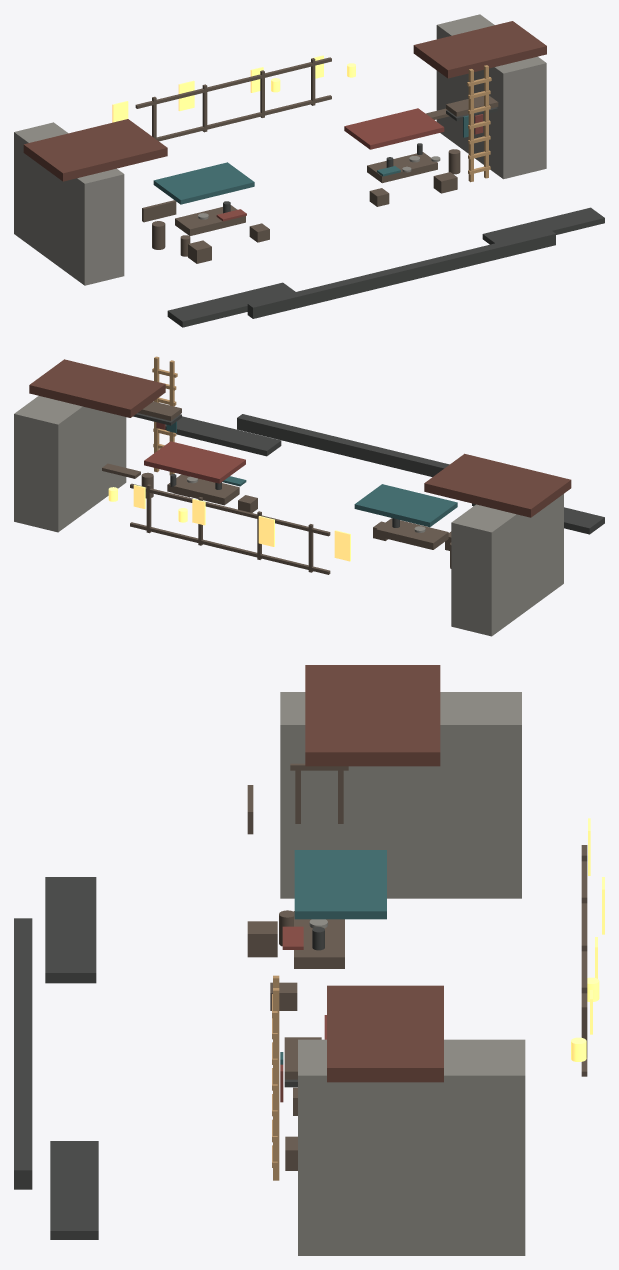
File: hd2d_market_reference_match.glb
The picture shows the model from 3 angles, top to bottom: view 1: azimuth 30°, elevation 25°; view 2: azimuth 150°, elevation 25°; view 3: azimuth 270°, elevation 25°; orthographic projection. The views are drawn at different scales.
Parts seen in each view (by area): view 1: LeftFacadeWallLip, RightFacadeWallLip, LeftEaveDarkRoof, ForegroundLowWall, RightEaveDarkRoof, LeftCanopyStall, RightCanopyStall, ForegroundLeftStep, ForegroundRightStep, LeftTable, RightTable, BackWallHorizontalTrimB (+7 smaller); view 2: LeftFacadeWallLip, RightFacadeWallLip, LeftEaveDarkRoof, RightEaveDarkRoof, ForegroundLowWall, LeftCanopyStall, RightCanopyStall, ForegroundRightStep, LeftTable, RightTable, BackWallHorizontalTrimA, BackWallHorizontalTrimB (+4 smaller); view 3: RightFacadeWallLip, LeftFacadeWallLip, LeftEaveDarkRoof, RightEaveDarkRoof, LeftCanopyStall, ForegroundLeftStep, ForegroundLowWall, ForegroundRightStep, LeftTable, RightVisibleHighLadderRightRail, CrateA, BackWallHorizontalTrimB.
Boxes of the visible parts, x1,y1,x2,y2 form: LeftFacadeWallLip: (14, 122, 124, 285); RightFacadeWallLip: (436, 14, 546, 179); LeftEaveDarkRoof: (23, 119, 167, 181); ForegroundLowWall: (247, 230, 555, 318); RightEaveDarkRoof: (413, 21, 546, 78); LeftCanopyStall: (153, 162, 254, 204); RightCanopyStall: (344, 108, 444, 149); ForegroundLeftStep: (167, 282, 295, 327); ForegroundRightStep: (482, 207, 604, 244); LeftTable: (175, 205, 245, 235); RightTable: (367, 152, 437, 183); BackWallHorizontalTrimB: (135, 57, 331, 108); LeftFacadeWallLip: (451, 494, 563, 636); RightFacadeWallLip: (14, 396, 126, 532); LeftEaveDarkRoof: (424, 453, 571, 517); RightEaveDarkRoof: (29, 359, 165, 417); ForegroundLowWall: (237, 414, 449, 476); LeftCanopyStall: (354, 484, 457, 527); RightCanopyStall: (144, 441, 245, 483); ForegroundRightStep: (165, 416, 281, 456); LeftTable: (376, 518, 448, 549); RightTable: (167, 474, 239, 505); BackWallHorizontalTrimA: (130, 522, 330, 574); BackWallHorizontalTrimB: (130, 483, 330, 536); RightFacadeWallLip: (298, 1039, 525, 1255); LeftFacadeWallLip: (280, 692, 521, 898); LeftEaveDarkRoof: (305, 665, 440, 766); RightEaveDarkRoof: (327, 985, 443, 1082); LeftCanopyStall: (294, 850, 386, 919); ForegroundLeftStep: (45, 877, 96, 983); ForegroundLowWall: (14, 918, 32, 1189); ForegroundRightStep: (50, 1141, 98, 1239); LeftTable: (294, 911, 344, 968); RightVisibleHighLadderRightRail: (273, 988, 279, 1180); CrateA: (247, 921, 277, 957); BackWallHorizontalTrimB: (581, 845, 587, 1012).
Bounding box in the file's own units: 13.59 × 3.27 × 8.32.
